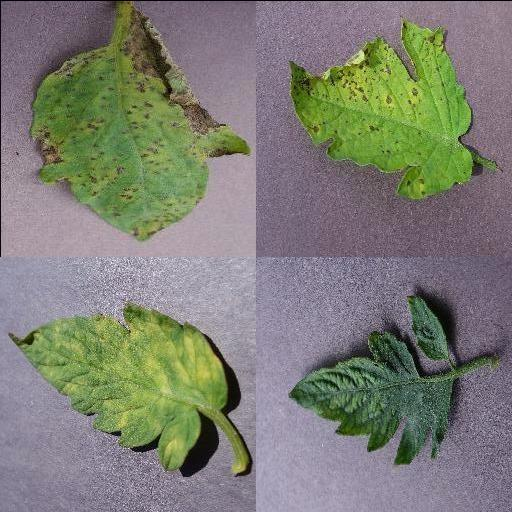Leaf Mold: (6, 300, 228, 471)
Mosaic Virus: (286, 292, 456, 468)
Septoria: (30, 0, 248, 242), (287, 14, 475, 198)
